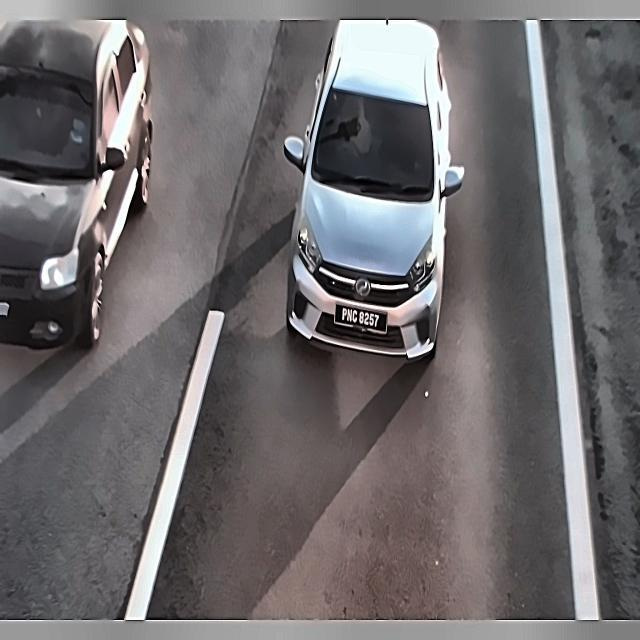car: (332, 299, 394, 341)
